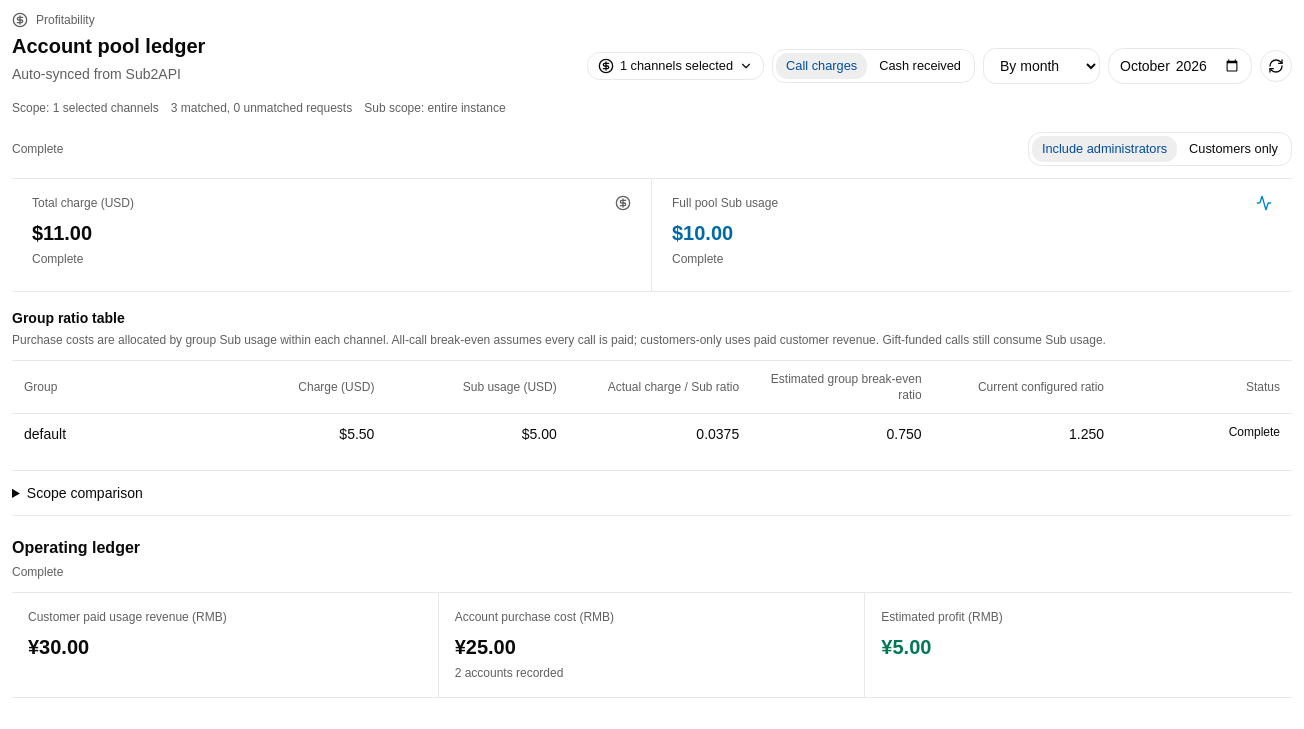
Test: ProfitabilityCalculator › keeps small per-group ratios visible without rounding them to zero
Expected: the text "0.0375" is shown, top-left (569, 414), bottom-right (751, 454)
Click the button "Customers only": [1234, 149] box top-left (1178, 135), bottom-right (1289, 163)
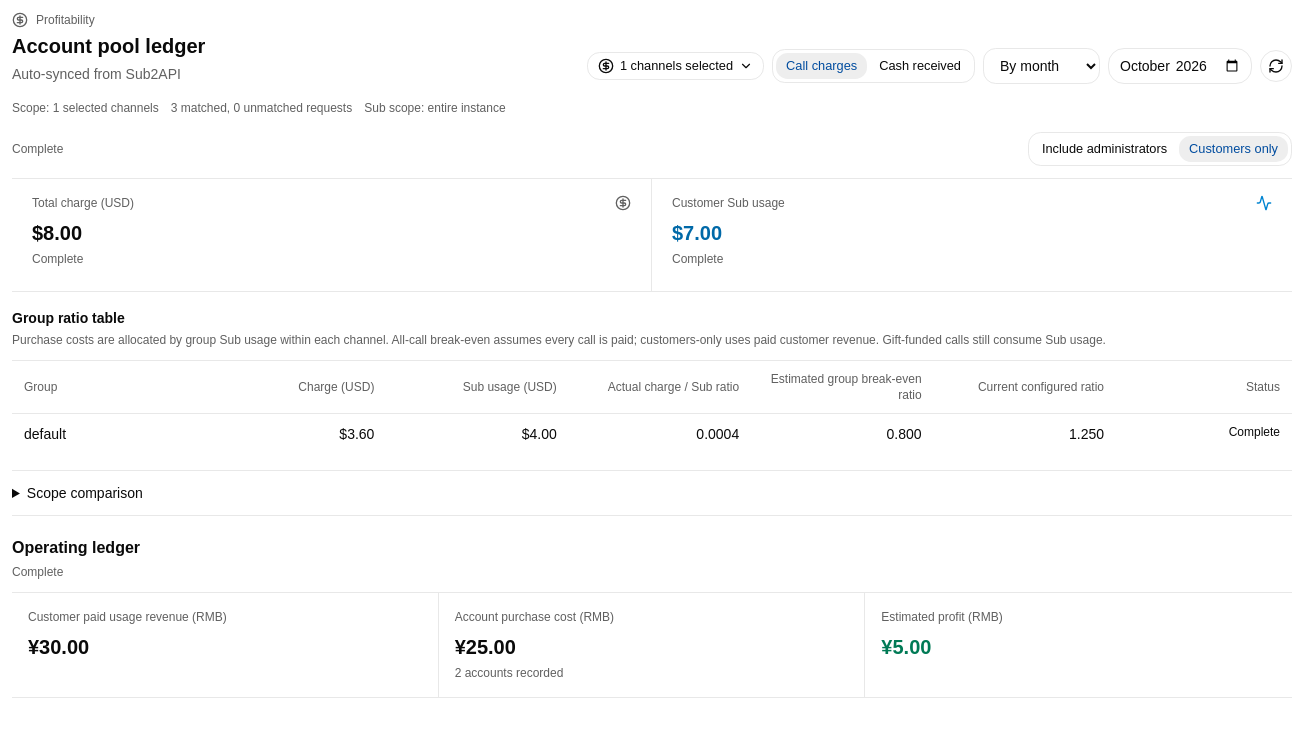
Result: the text "0.0004" is shown at top-left (569, 414), bottom-right (751, 454)
